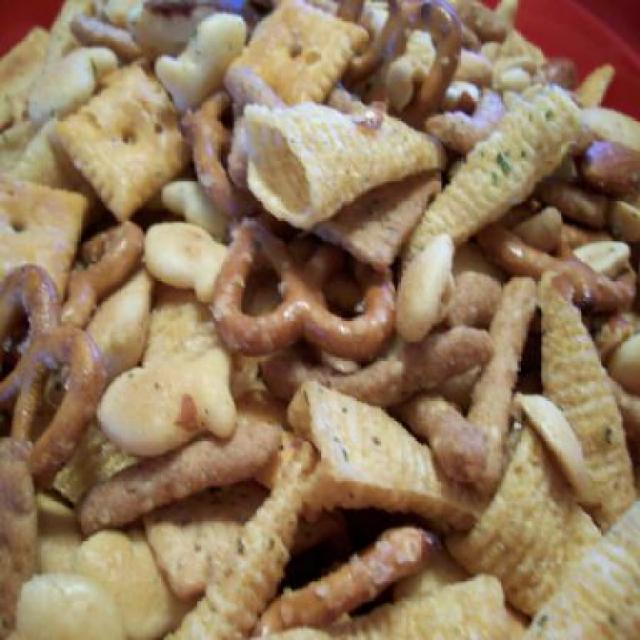Salatini packaged: (8, 17, 630, 631)
